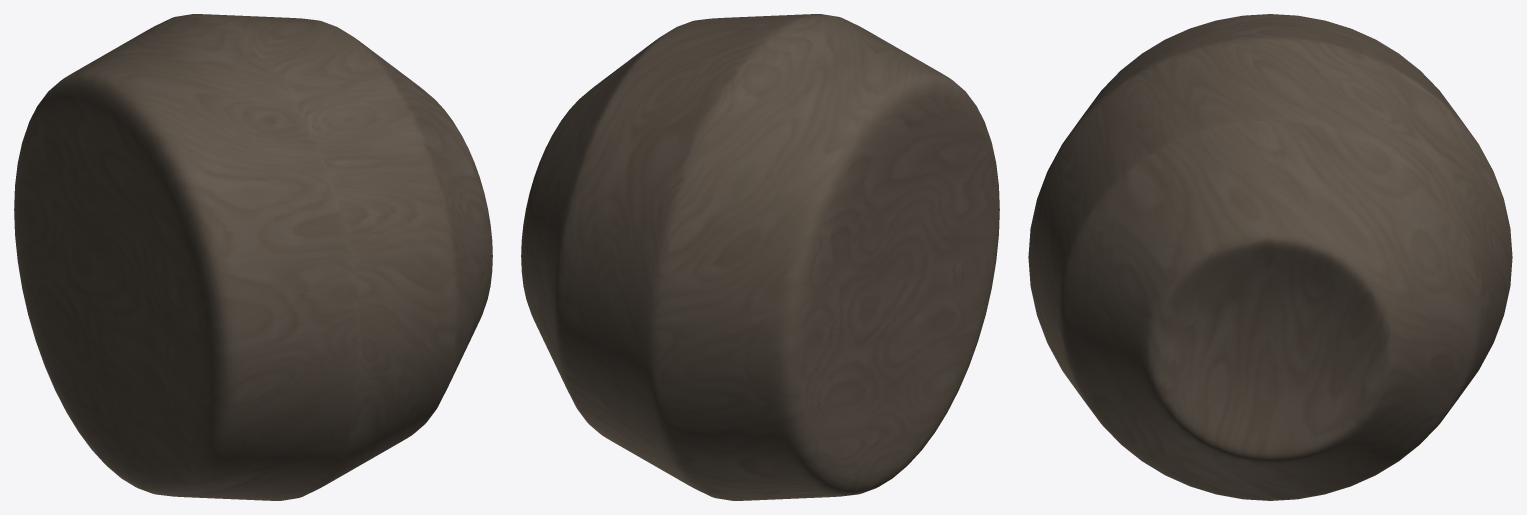
The model's file is oeuil moustache.fbx.
3 views of the same model, side by side, from view 1: azimuth 30°, elevation 25°; view 2: azimuth 150°, elevation 25°; view 3: azimuth 270°, elevation 25° (orthographic). The views are drawn at different scales.
Visible parts, largest first — view 1: Oeuil moustache; view 2: Oeuil moustache; view 3: Oeuil moustache.
Part boxes in pixels (x1=…): Oeuil moustache: x1=14, y1=14, x2=492, y2=500; Oeuil moustache: x1=521, y1=14, x2=999, y2=500; Oeuil moustache: x1=1028, y1=14, x2=1512, y2=500.
Bounding box in the file's own units: 26.24 × 35.57 × 35.57.
Materials: 1 (1 with a texture image).
